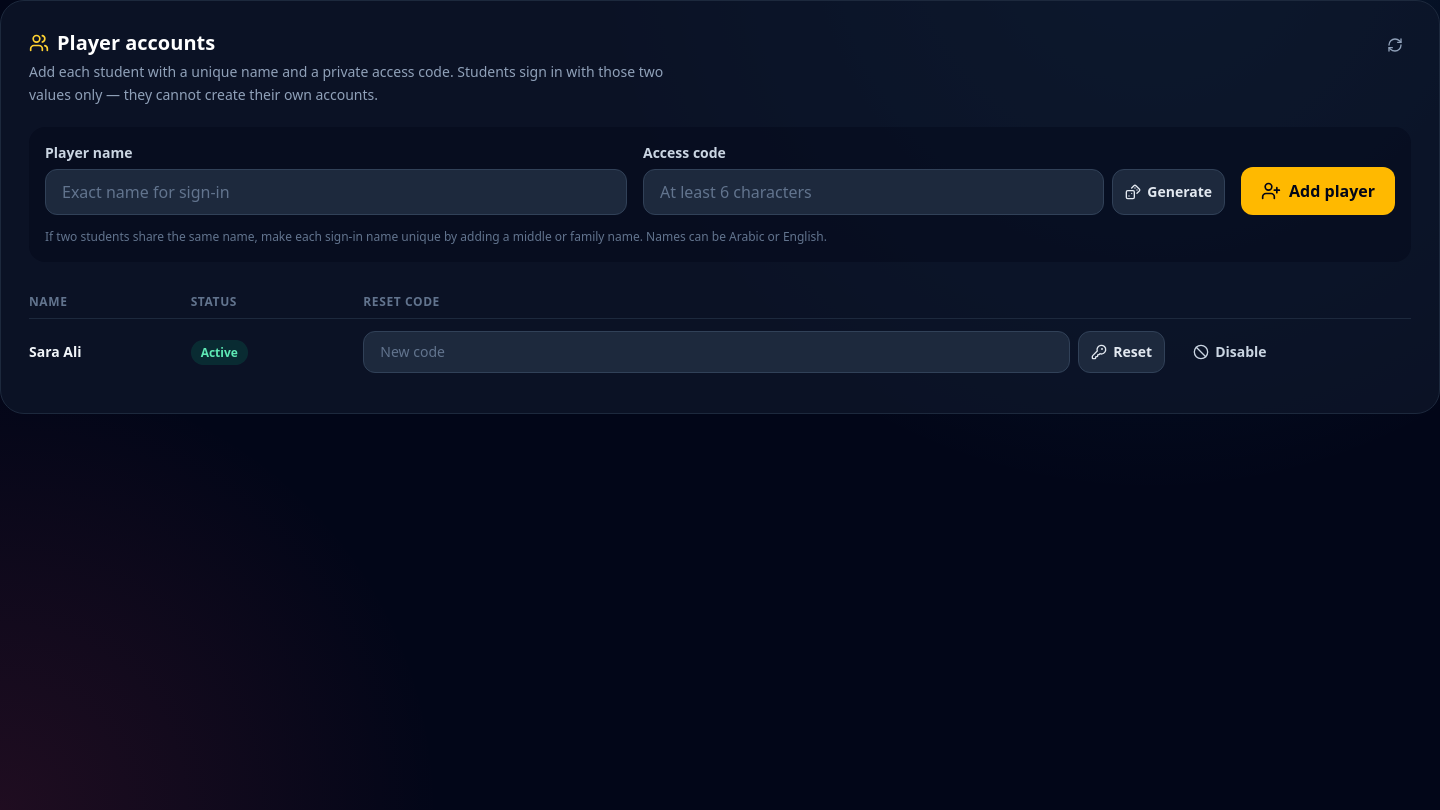
<PlayerManager /> › creates a player with a name and code and shows the one-time code
expect the table with test id "player-table" is shown: met, box [29,286,1411,385]
In the field named "Player name": (336, 192) [45,168,627,214], type "  Omar   Ali  "
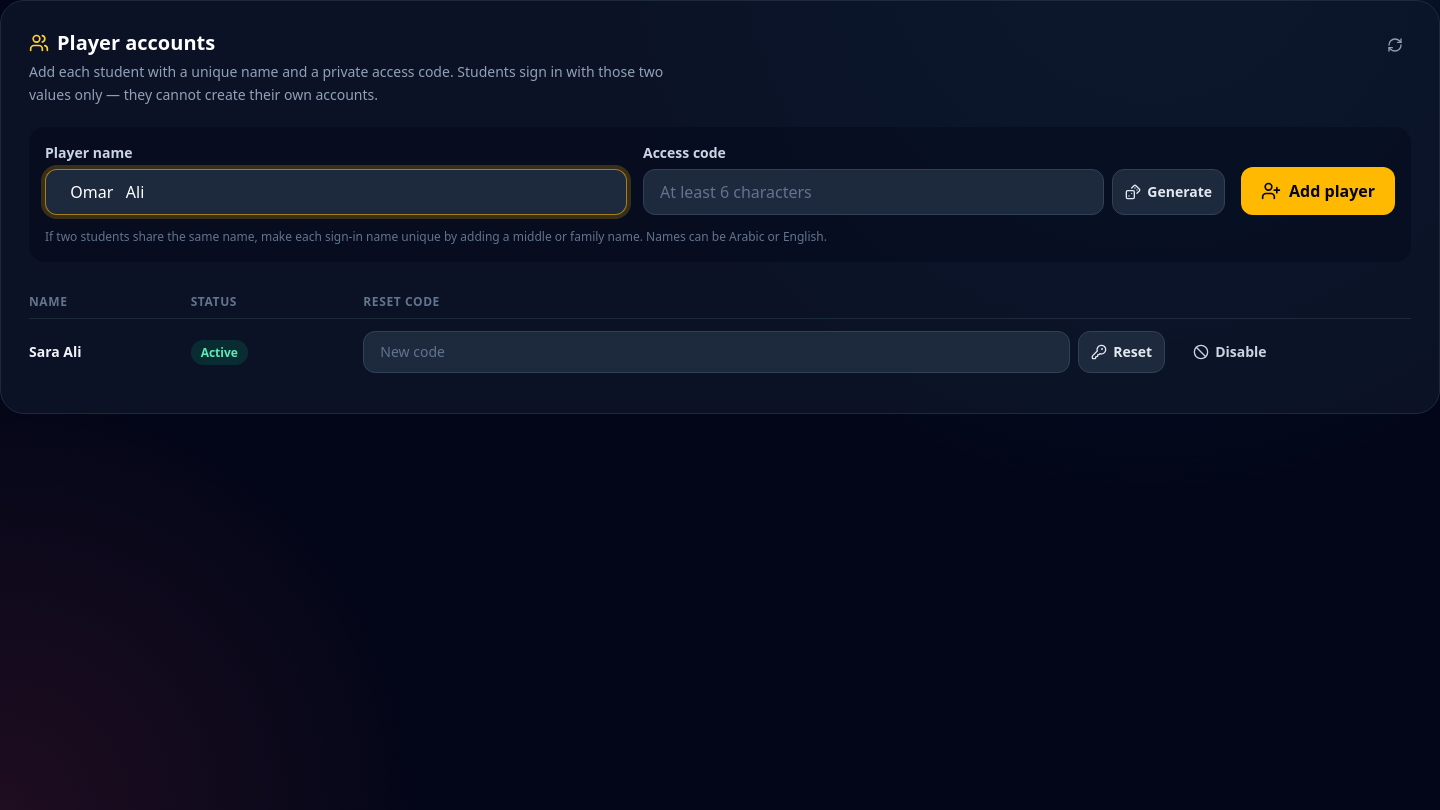
In the field named "Access code": (874, 192) [643,168,1104,214], type "OMAR2468"
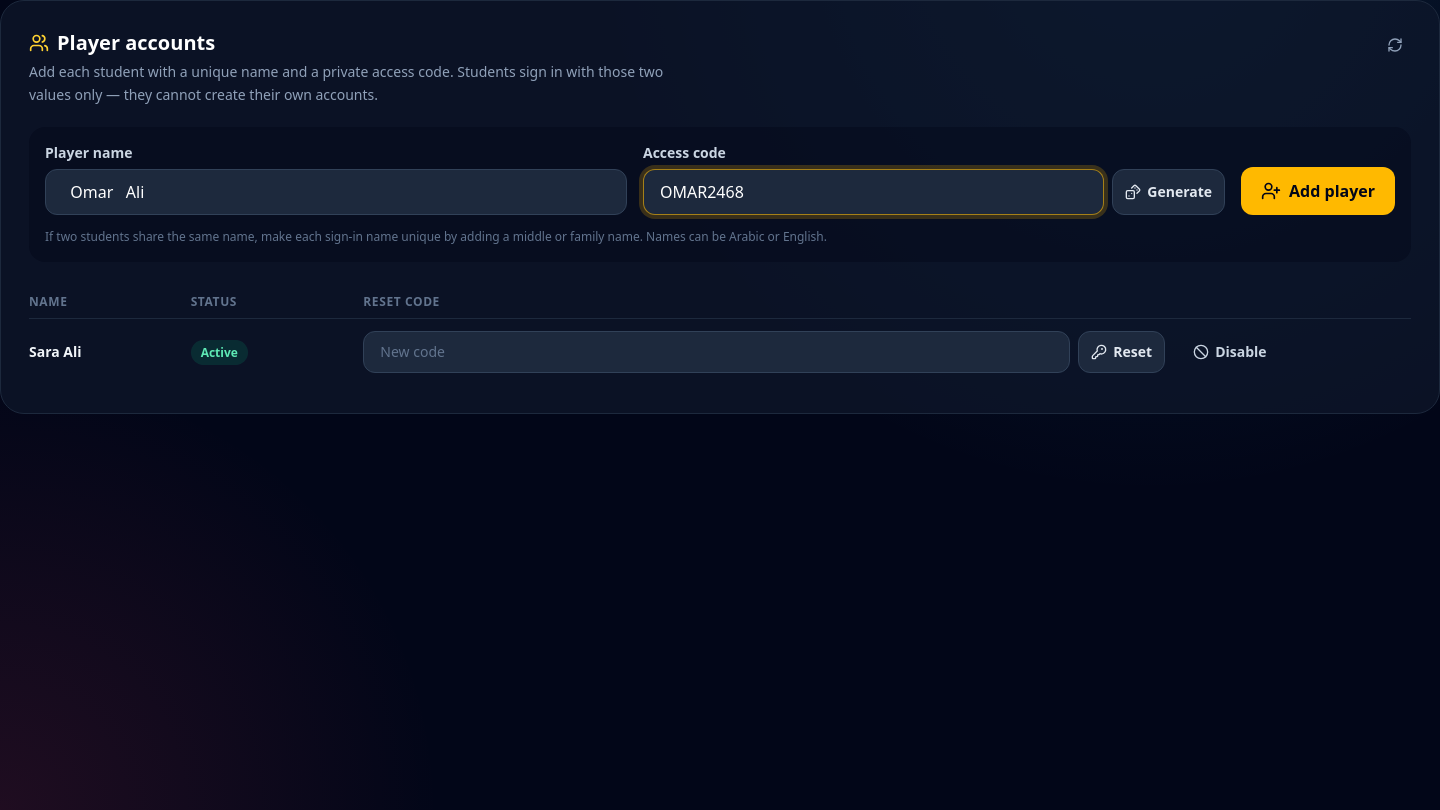
Click the button "Add player": click(1318, 190) [1241,166,1395,214]
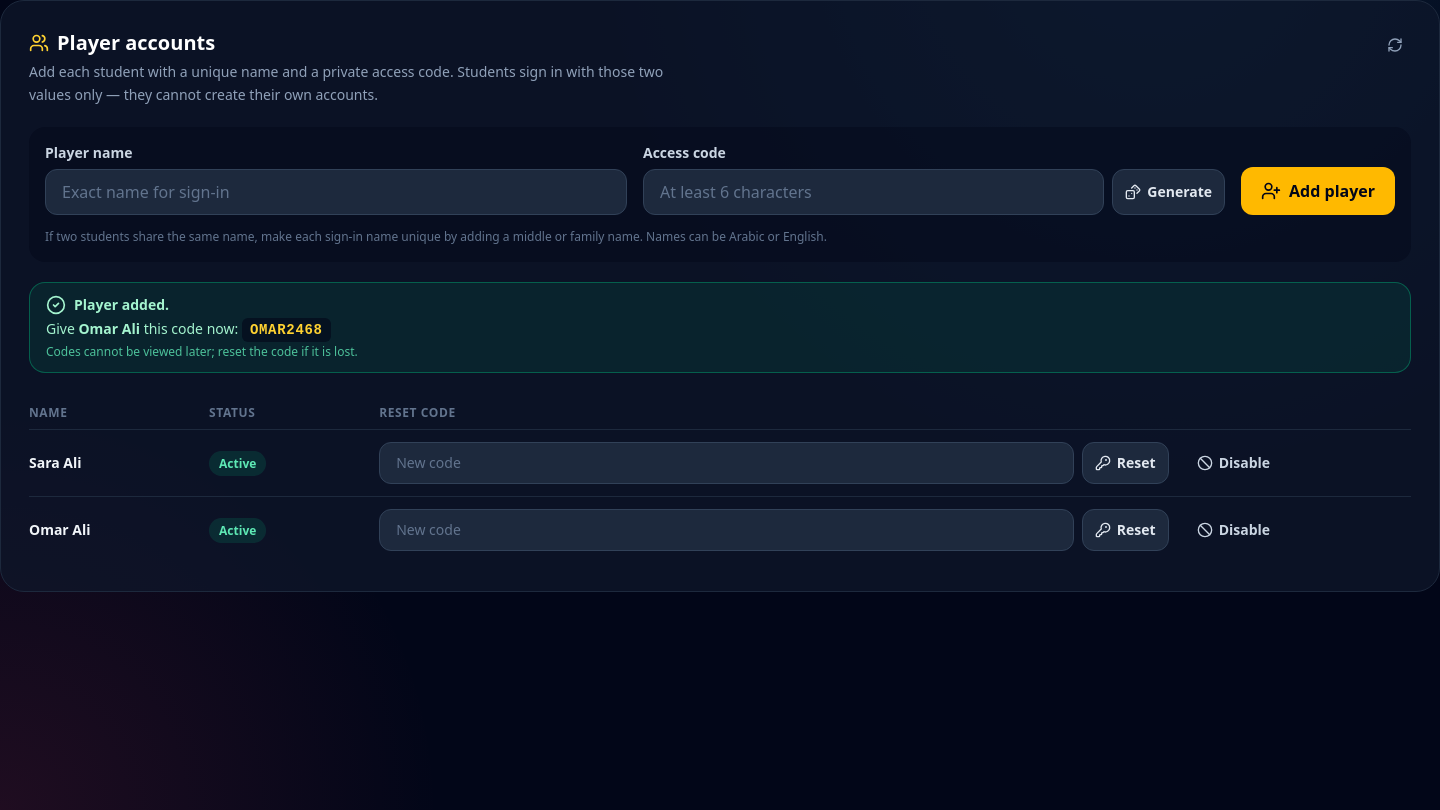
expect the text "Player added." is shown: met, box [46,295,169,315]
expect the text "OMAR2468" is shown: met, box [242,318,331,342]
expect the text "Omar Ali" is shown 2 times: met, box [78,319,140,338]; [29,496,209,563]
